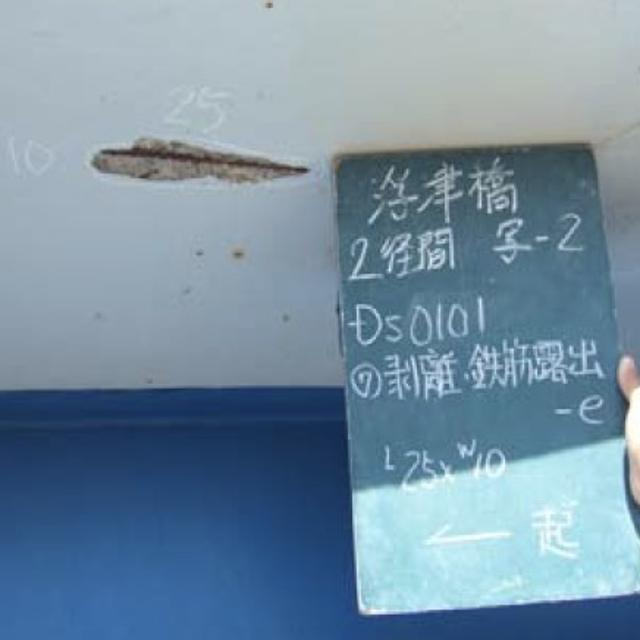spalling: (85, 120, 308, 204)
